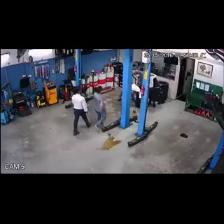person: (72, 88, 90, 135), (94, 87, 106, 129)
